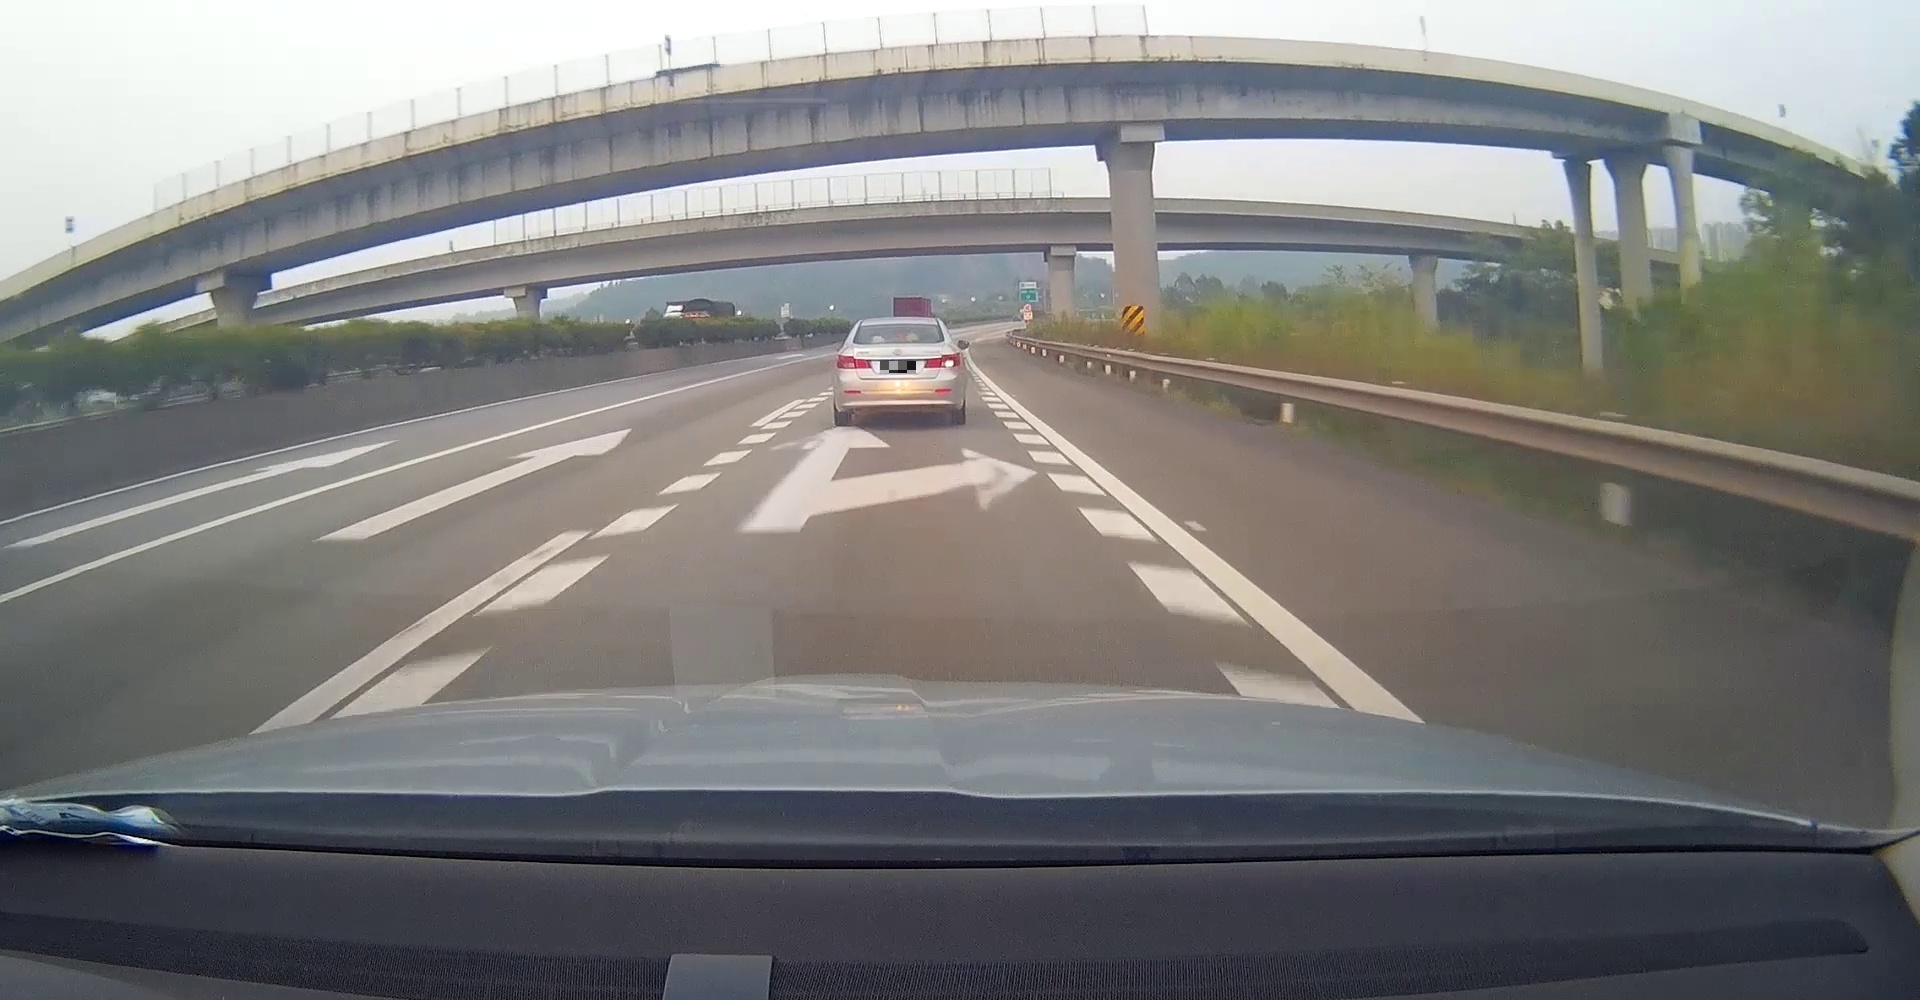L_light: (837, 354, 871, 369)
R_light: (924, 352, 963, 369)
T_light: (890, 324, 902, 327)
day-right: (833, 315, 965, 428)
plate_1: (880, 360, 916, 373)
